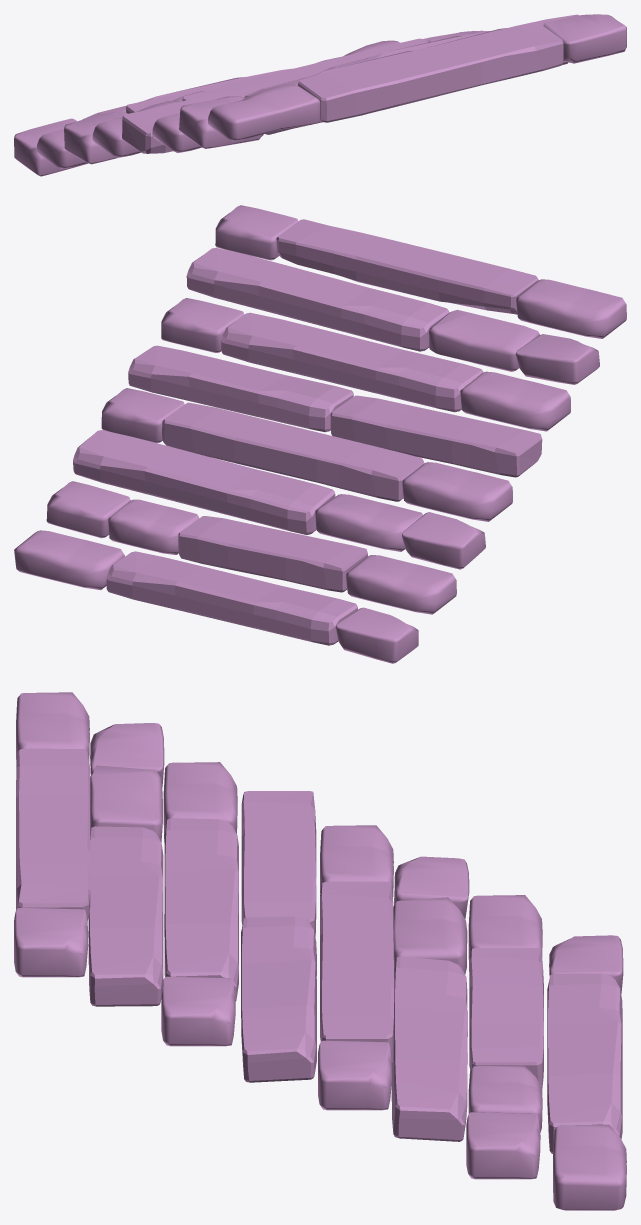
File: Stairs_Pavement_01_Lod0.fbx
3 views of the same model, one above another, from view 1: azimuth 30°, elevation 25°; view 2: azimuth 150°, elevation 25°; view 3: azimuth 270°, elevation 25° (orthographic). The views are drawn at different scales.
Parts seen in each view (by area): view 1: Stairs_Pavement_01_Lod0; view 2: Stairs_Pavement_01_Lod0; view 3: Stairs_Pavement_01_Lod0.
Part boxes in pixels (box(x1,y1,x2,y2)): Stairs_Pavement_01_Lod0: box(14, 14, 626, 176); Stairs_Pavement_01_Lod0: box(14, 205, 626, 663); Stairs_Pavement_01_Lod0: box(14, 692, 626, 1210).
Bounding box in the file's own units: 305 × 152 × 309.
